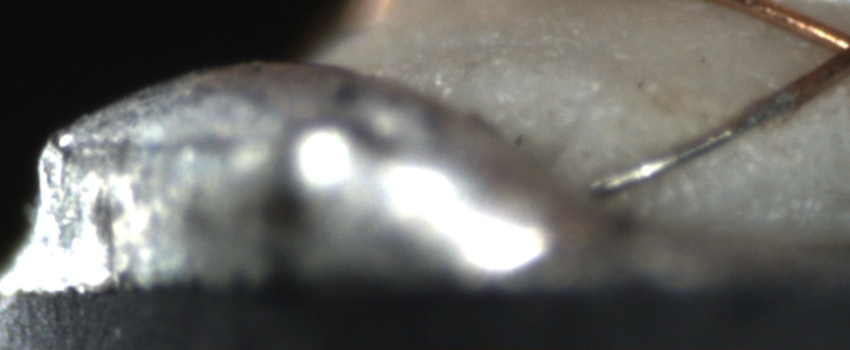CL: (807, 14, 850, 85)
TS: (579, 90, 797, 200)
